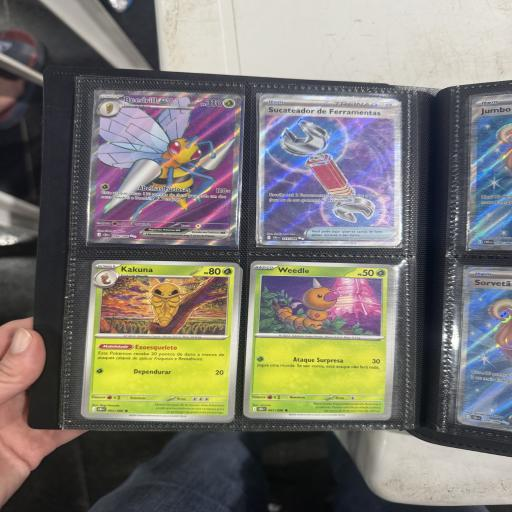card: (82, 260, 240, 420), (88, 88, 243, 251), (243, 260, 395, 419), (258, 94, 403, 247)
